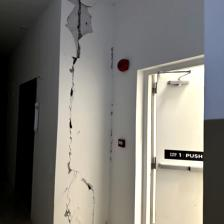High: (61, 2, 103, 224)
